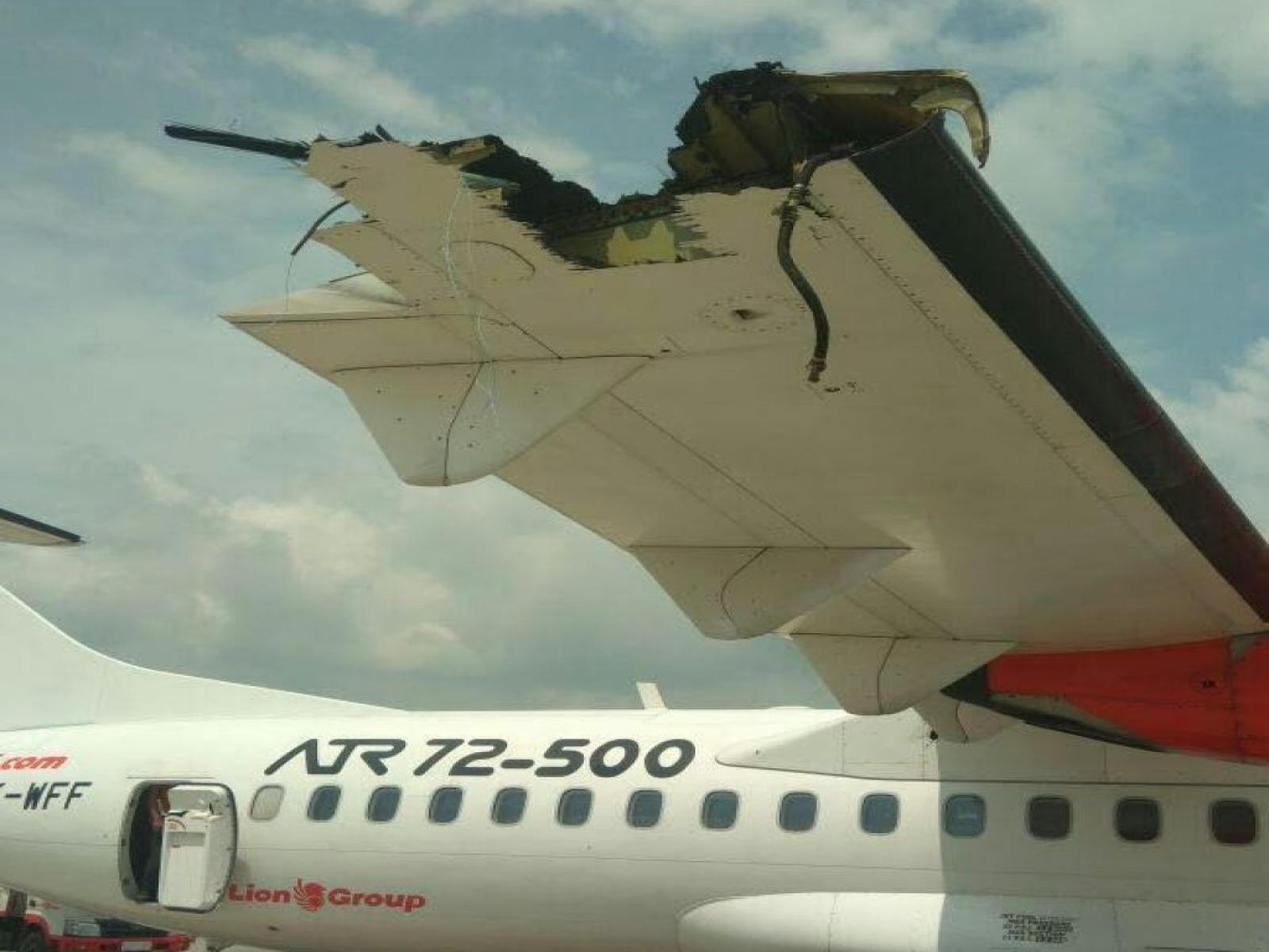Wing_damage: (668, 62, 988, 192), (467, 139, 600, 231), (164, 124, 393, 162), (554, 216, 721, 267), (419, 136, 503, 168)
